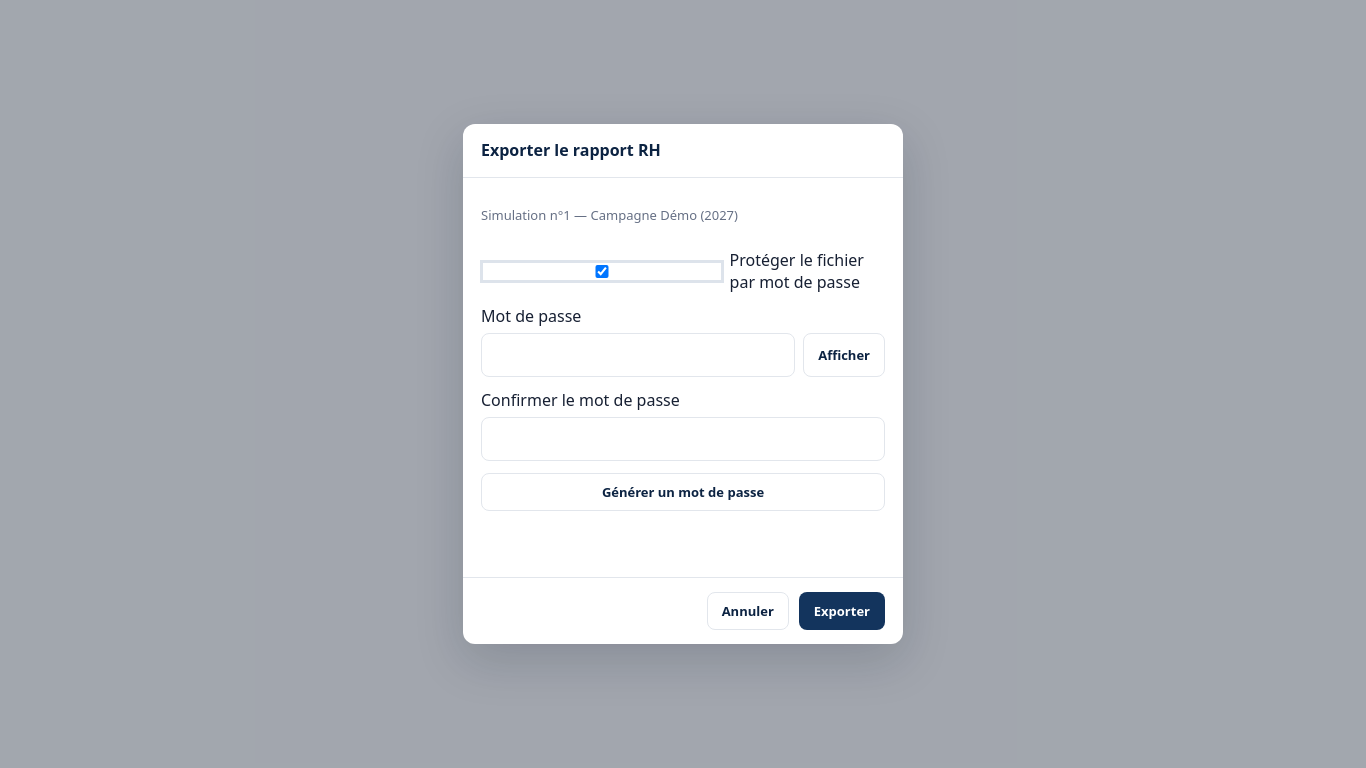
Test: SimulationExcelExportDialog › valide côté client avant d’exporter (trop court)
The width and height of the screenshot is (1366, 768).
Step 1. Type "court" into the password field with test id "simulation-excel-export-password" → (638, 355), box [481,333,795,377]
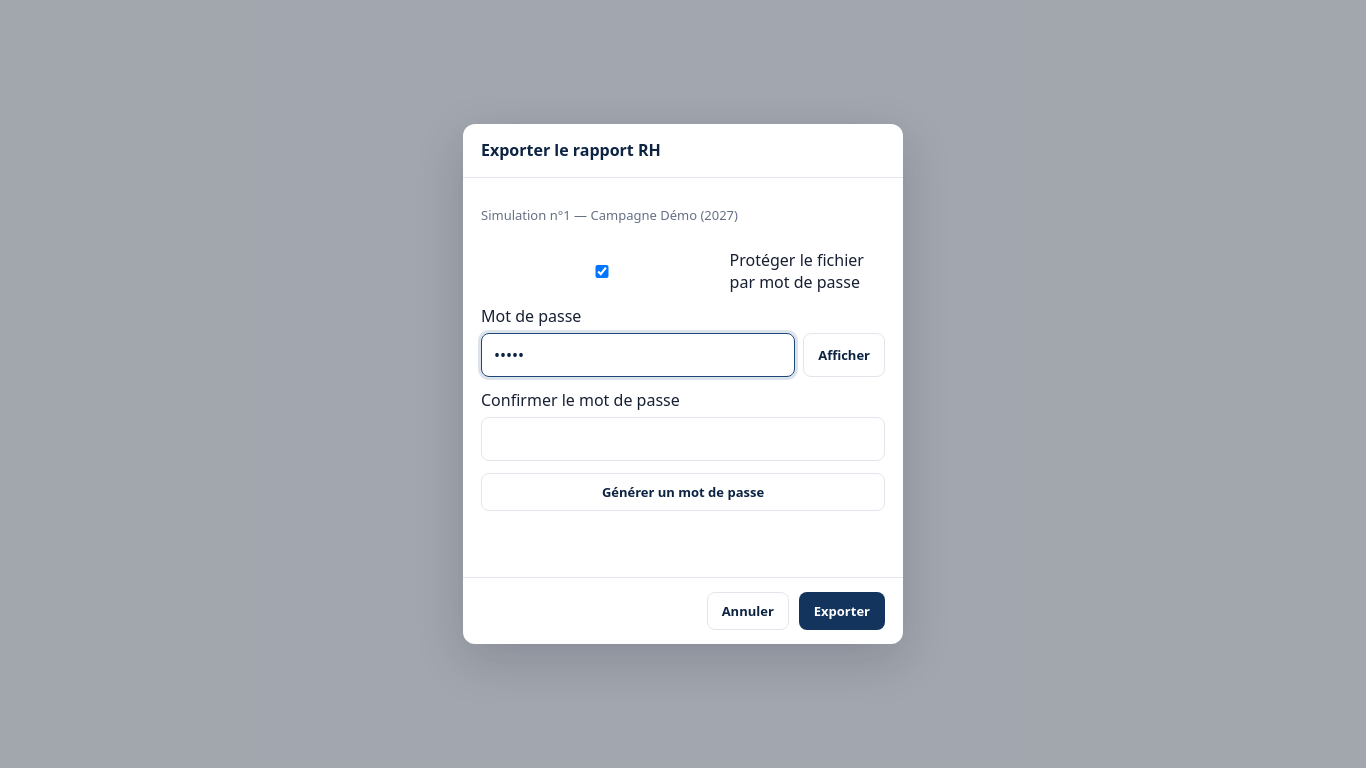
Step 2. Type "court" into the password field with test id "simulation-excel-export-password-confirm" → (683, 439), box [481,417,885,461]
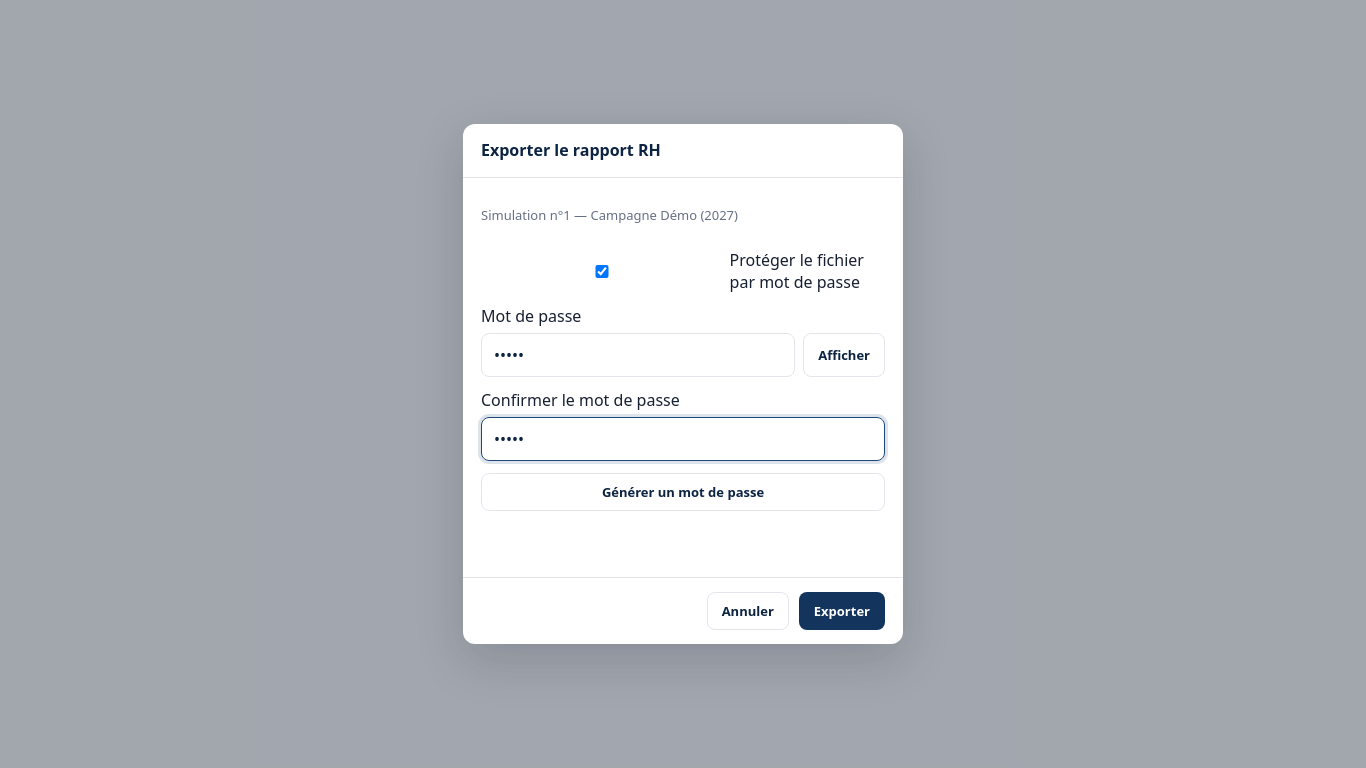
Step 3. Click the button with test id "simulation-excel-export-submit" → (842, 611), box [799,592,885,630]
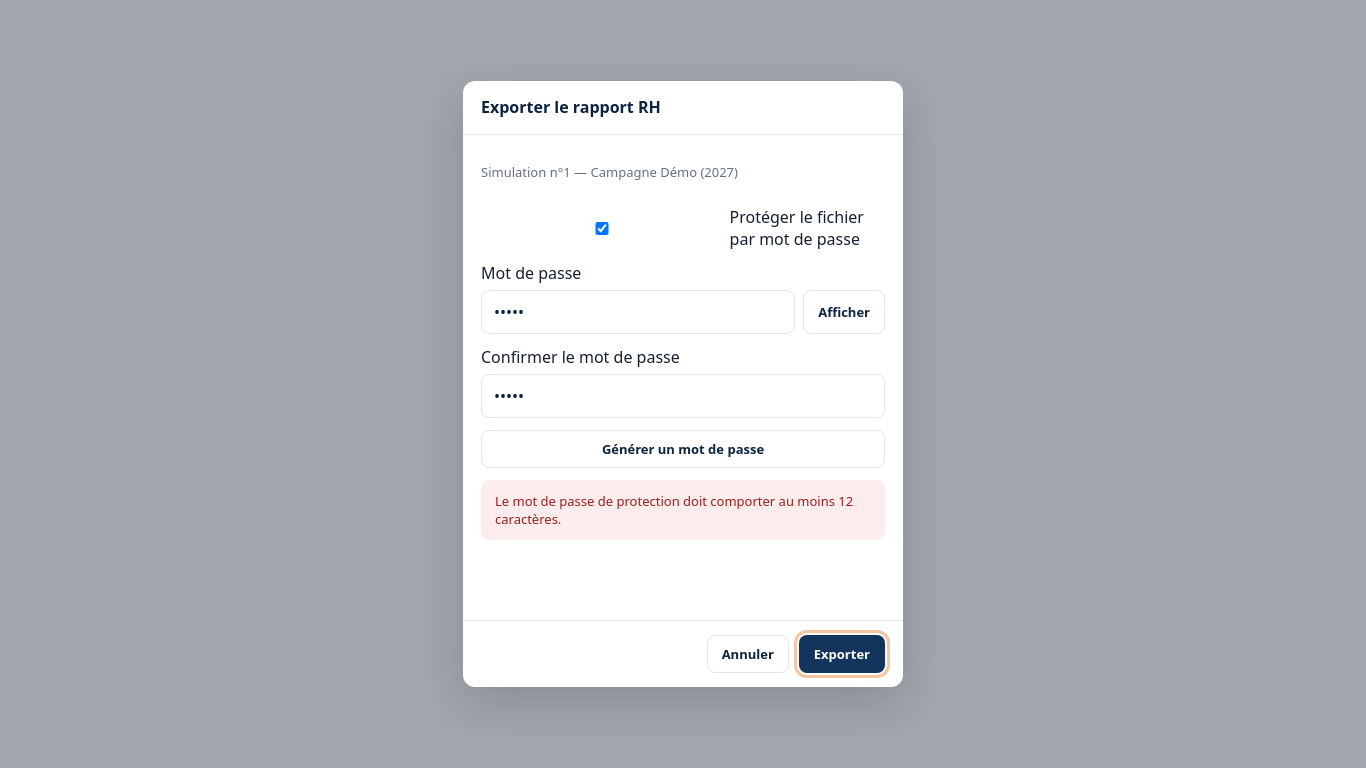
Result: the message with test id "simulation-excel-export-validation" shows "12 caractères" at [495,492,853,528]
